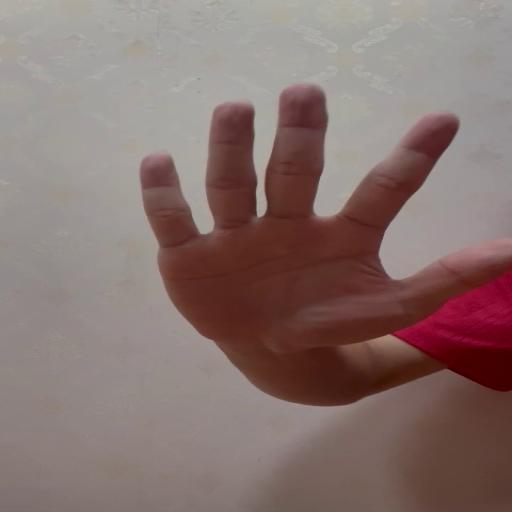open_palm: (140, 81, 510, 350)
